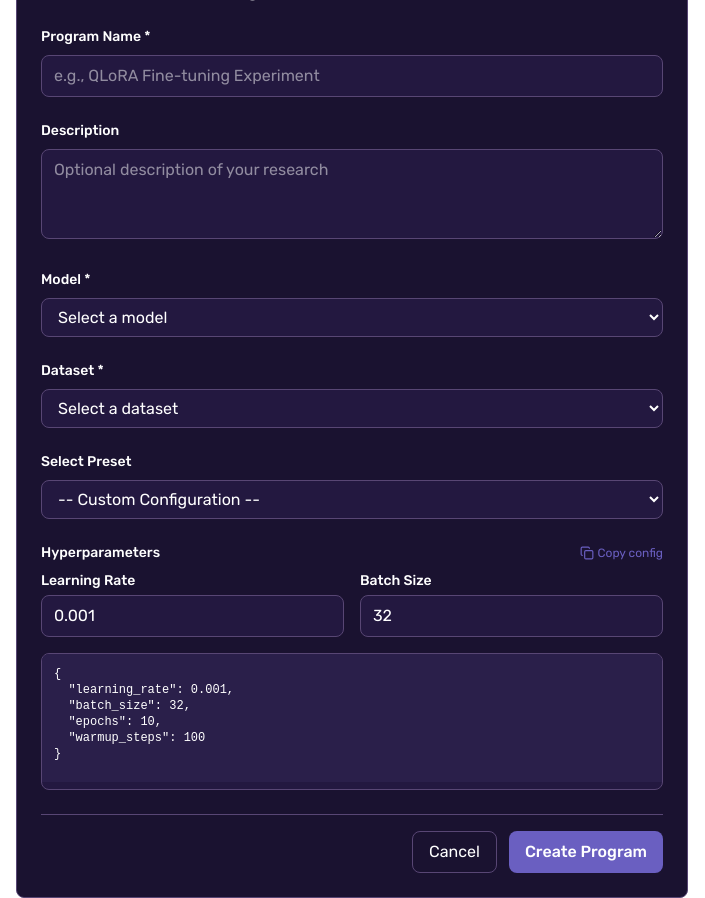
Test case: ResearchProgramEditor › Form Validation › should require program name
The image size is (705, 898).
(page scrolled)
Click the button "Create Program" at {"x": 586, "y": 852}, box 509,831 -> 663,873
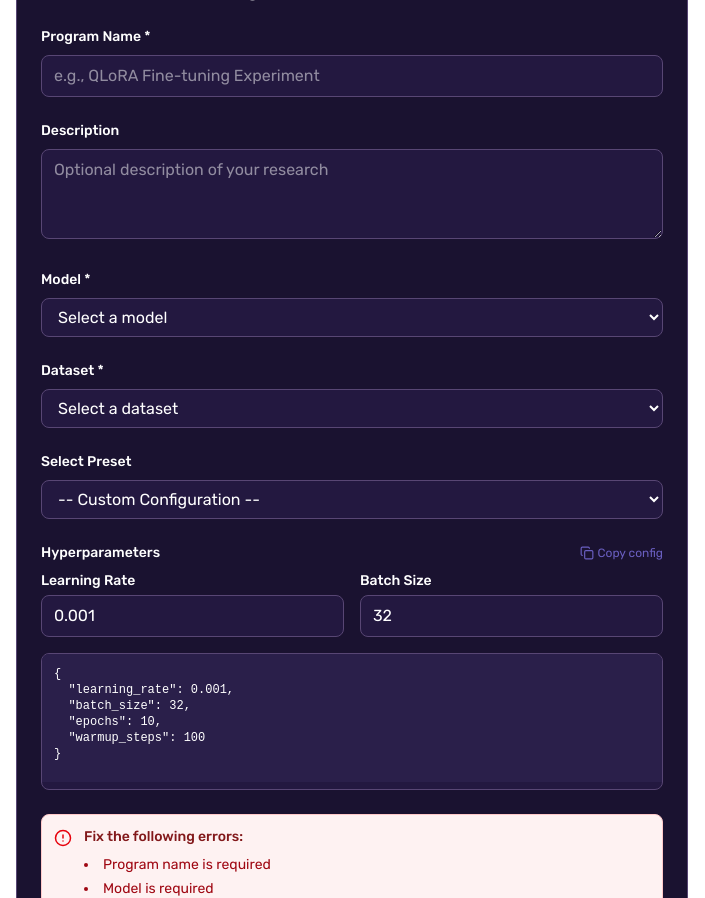
Now the list item "Program name is required" is shown, box 84,855 -> 271,875
